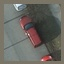car: (19, 15, 45, 49)
